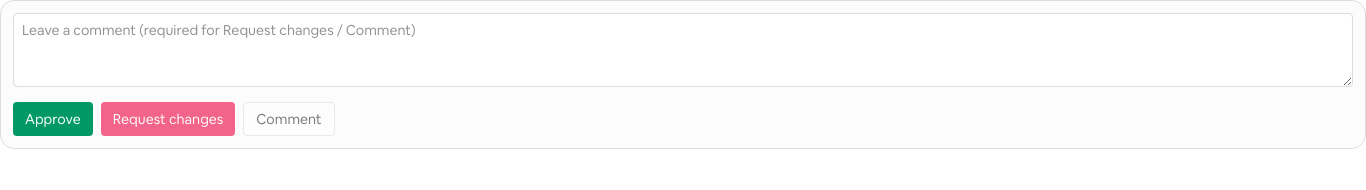
it: PrReviewActions › approves a PR with empty body and forwards repo+number
What coordinates should you click on to do the following:
click the button "Approve"
I would click on:
 (53, 119)
Its box is [13, 102, 93, 136].
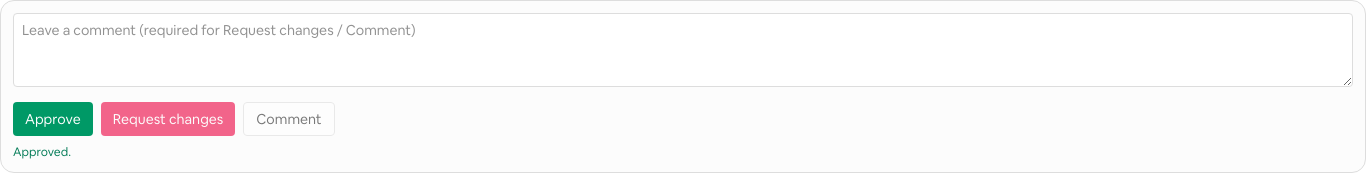
Result: the text "Approved." is shown at [13, 144, 71, 160]
